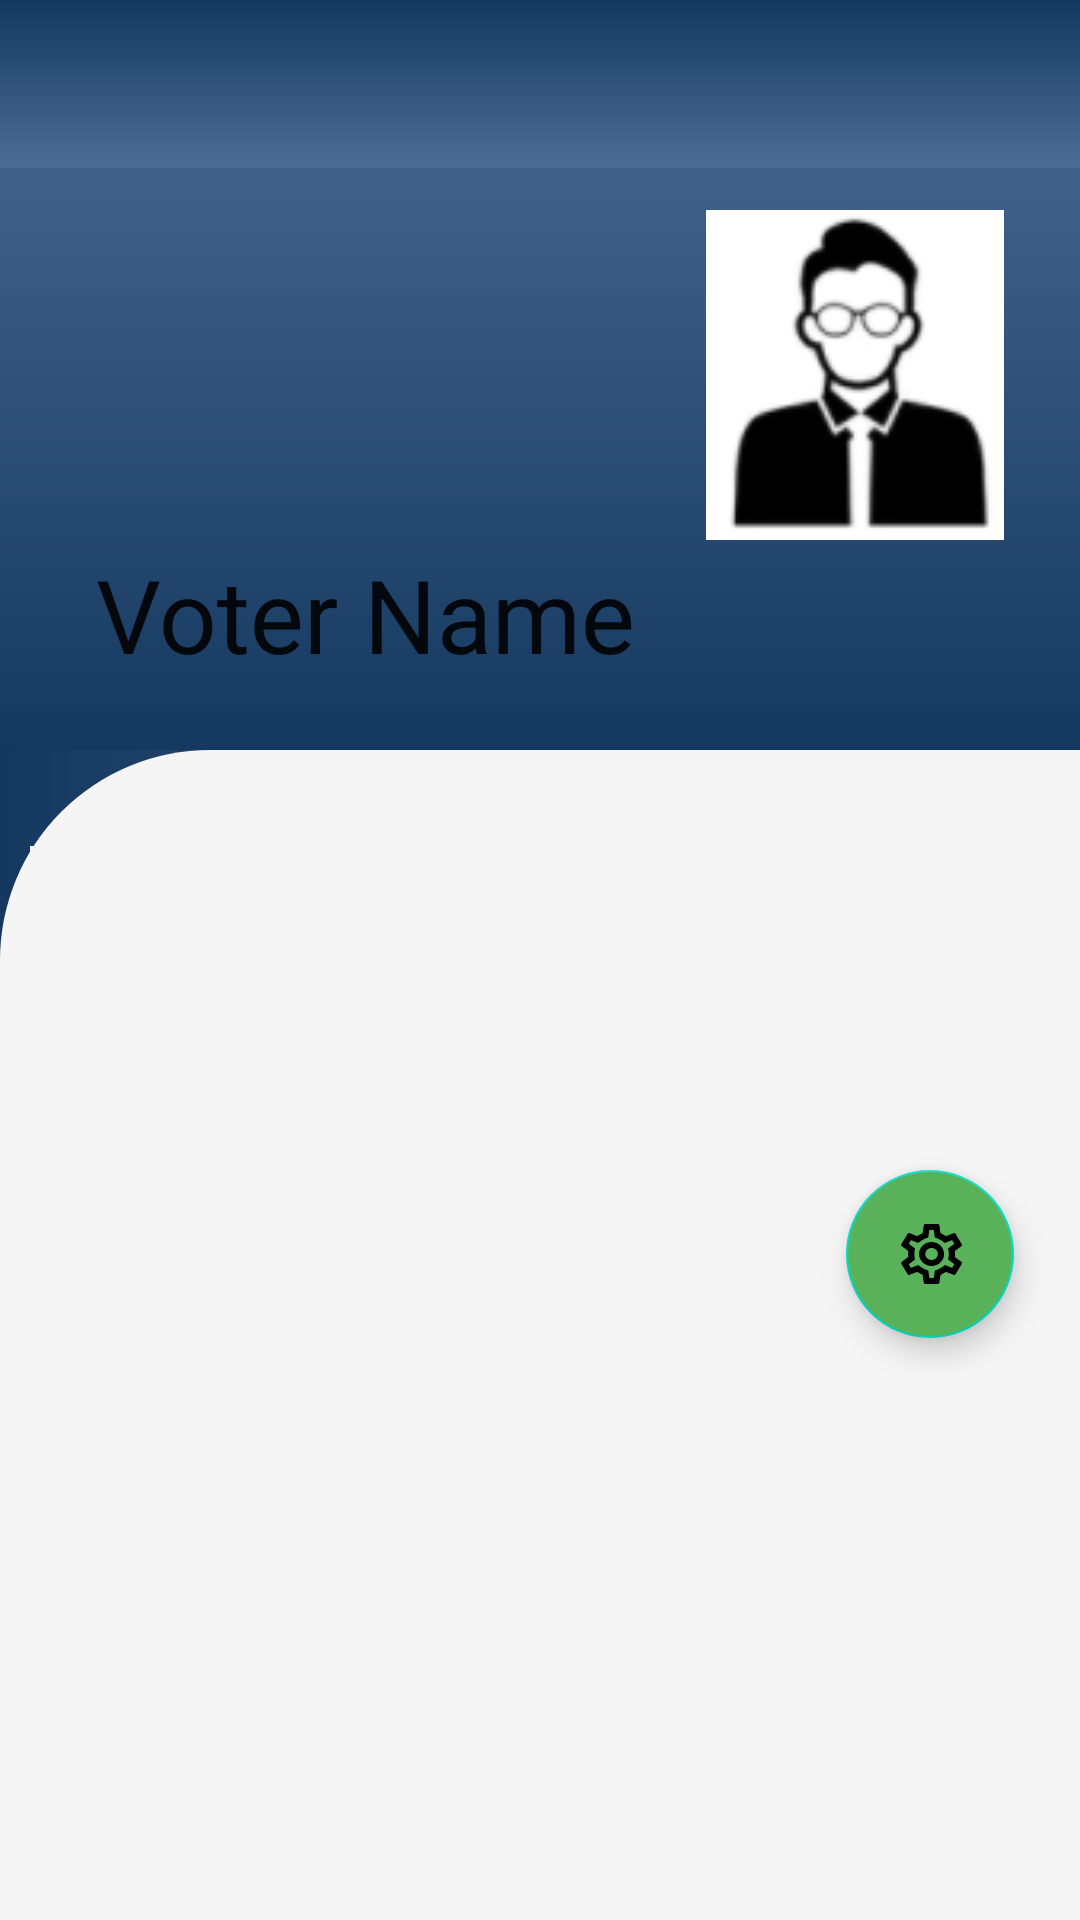

Icon click points for this 1080 x 1920 phone screenshot, format point (x, y):
setting: point (930, 1254)
